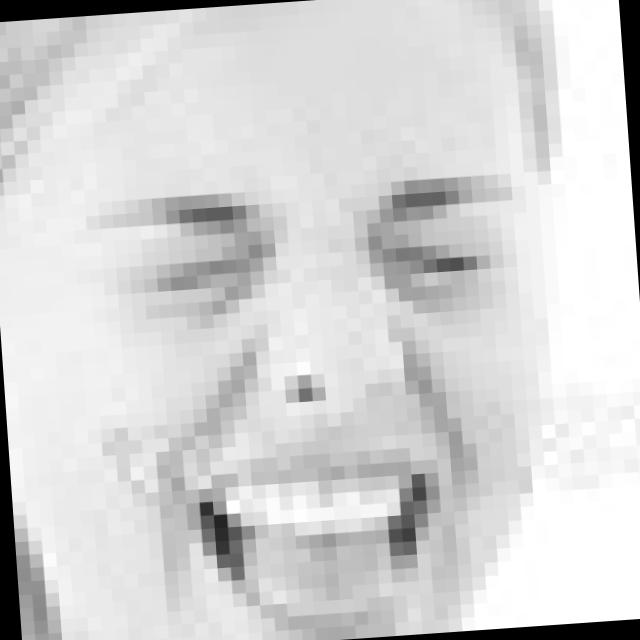disgust: (84, 165, 545, 640)
